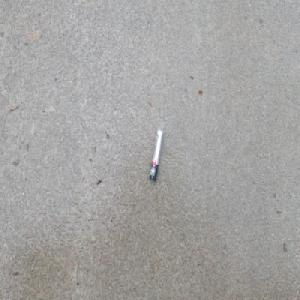Battery: (149, 128, 163, 182)
